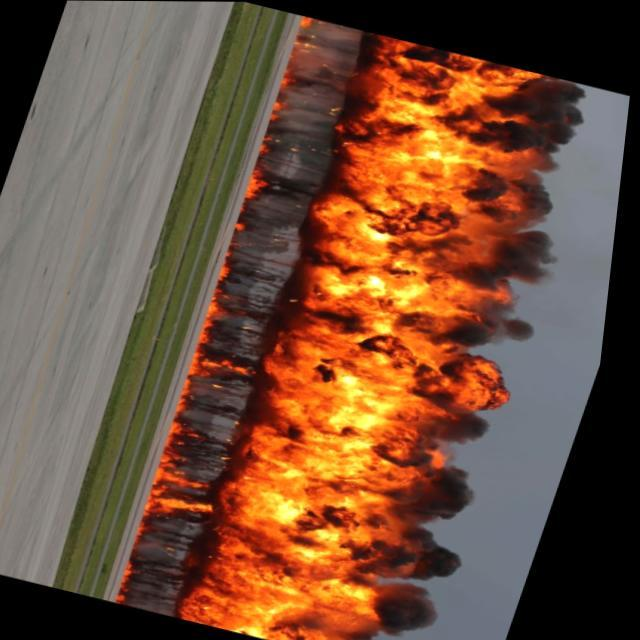fire: (120, 27, 567, 640)
